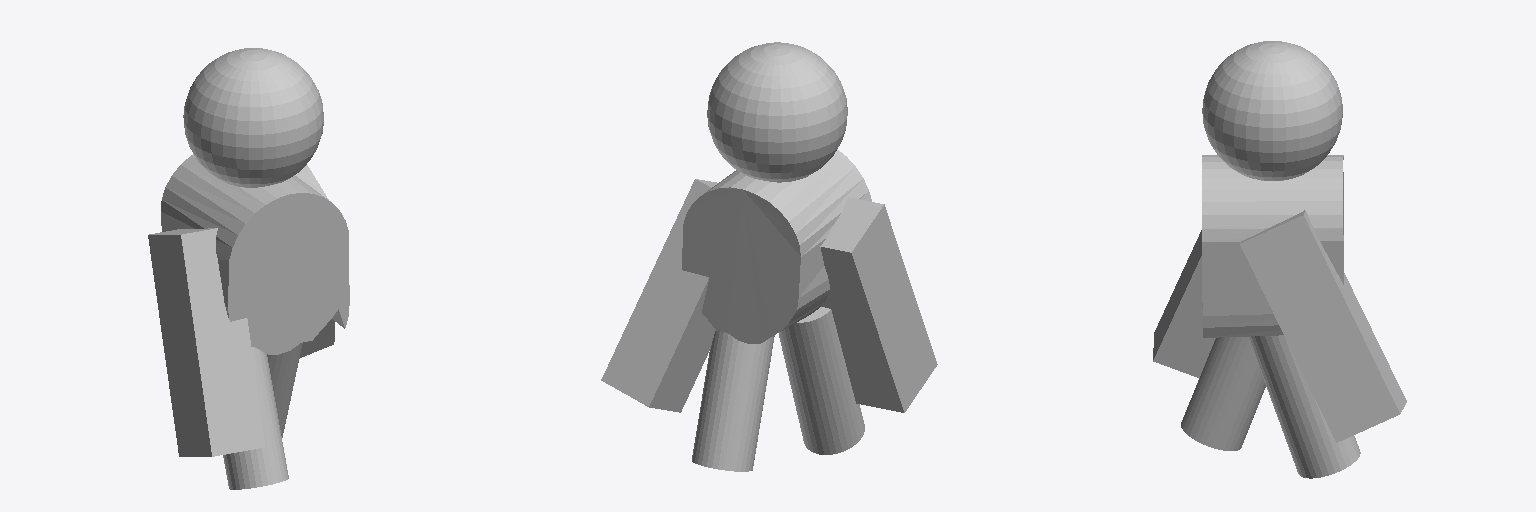
Rendered from Figurine142.obj.
3 views of the same model, side by side, from view 1: azimuth 30°, elevation 25°; view 2: azimuth 150°, elevation 25°; view 3: azimuth 270°, elevation 25° (orthographic).
Visible parts, largest first — view 1: Cylinder; view 2: Cylinder; view 3: Cylinder.
Part boxes in pixels (left/top/right/bottom): Cylinder: left=148, top=48, right=349, bottom=489; Cylinder: left=601, top=42, right=937, bottom=471; Cylinder: left=1153, top=41, right=1406, bottom=478.
Size of the model in its own units: 3.49 by 6.44 by 3.6.